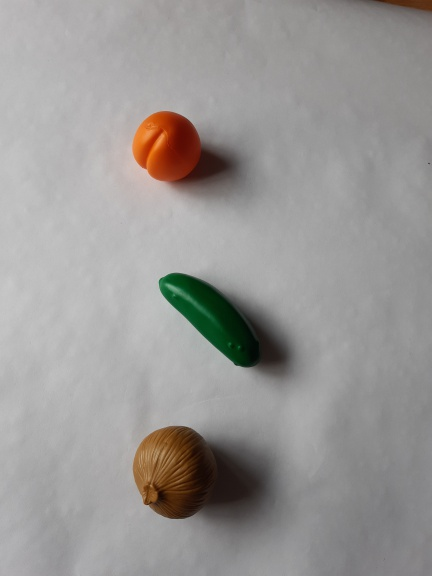apricot: (130, 103, 207, 190)
cucumber: (152, 260, 269, 376)
onion: (129, 418, 222, 527)
